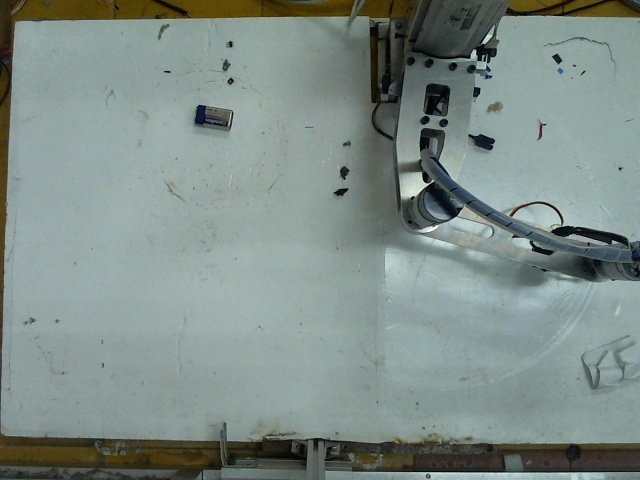battery: (188, 96, 235, 131)
